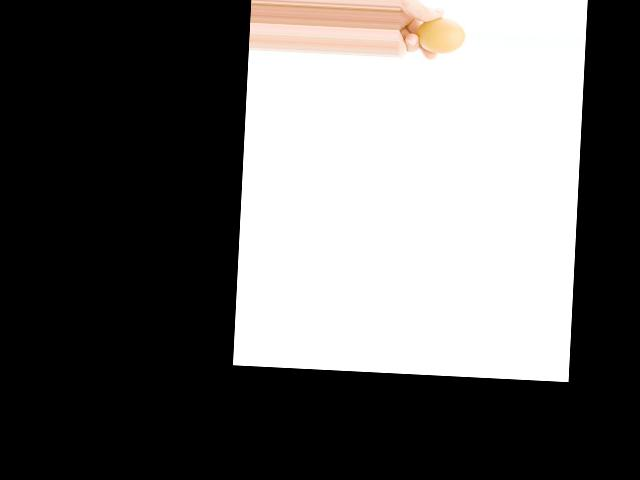egg: (417, 16, 466, 55)
